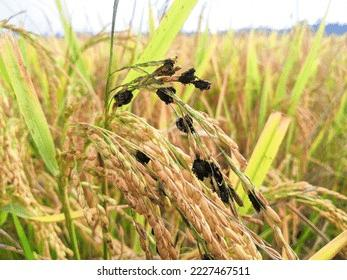False Smut: (186, 154, 241, 215), (154, 57, 181, 79), (245, 188, 265, 215), (176, 112, 197, 137), (155, 85, 178, 105), (114, 88, 135, 109), (134, 148, 152, 167), (177, 69, 197, 84), (194, 77, 210, 91)
